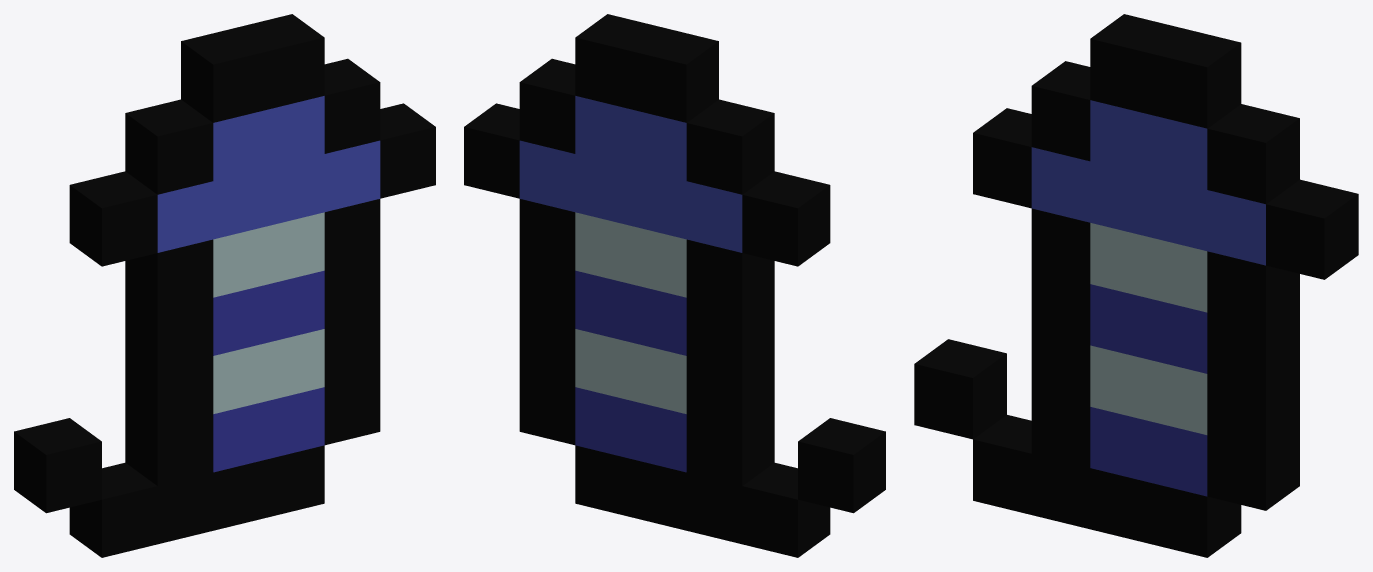
File: Blue Firecracker.glb
The picture shows the model from 3 angles, left to right: view 1: azimuth 30°, elevation 25°; view 2: azimuth 150°, elevation 25°; view 3: azimuth 330°, elevation 25°; orthographic projection. The views are drawn at different scales.
Visible parts, largest first — view 1: generated(Clone); view 2: generated(Clone); view 3: generated(Clone).
Part boxes in pixels (left/top/right/bottom): generated(Clone): left=14, top=14, right=435, bottom=557; generated(Clone): left=464, top=14, right=885, bottom=557; generated(Clone): left=914, top=14, right=1358, bottom=557.
Bounding box in the file's own units: 7 × 8 × 1.
Materials: 1 (1 with a texture image).
